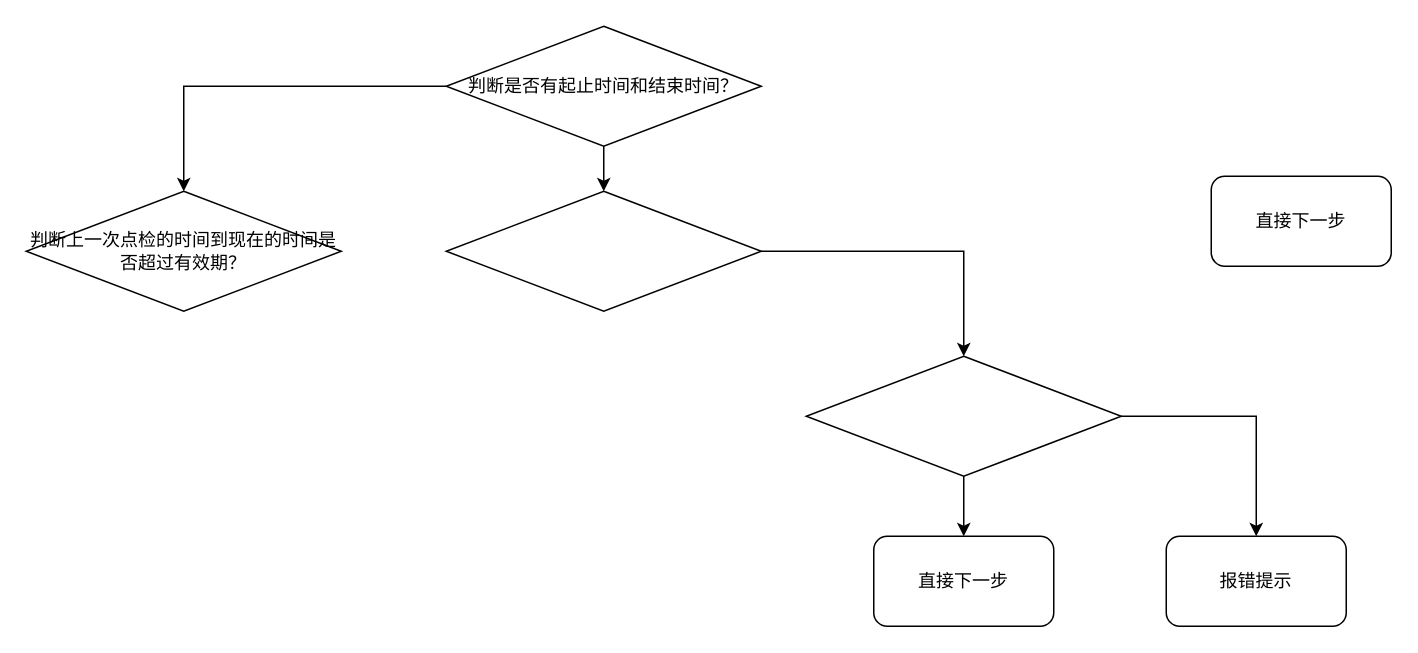
The diagram is 1418 pixels wide and 653 high, and some of its shapes have lost their labels. Here are the shapes that lost their labels. From the top down, the box of each, then its label:
(445, 190, 761, 311): 判断上一次点检的时间是否在这个范围内？
(805, 355, 1121, 476): 判断上一次点检的时间的有效期距离现在是否过期？
